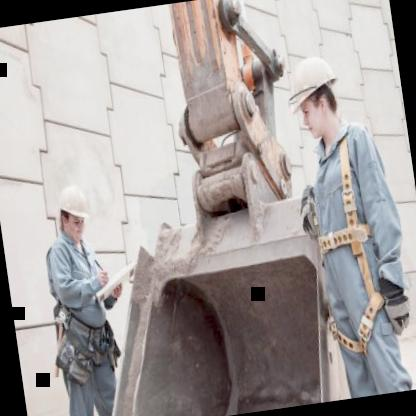helmet: (283, 48, 346, 141), (53, 180, 93, 243)
